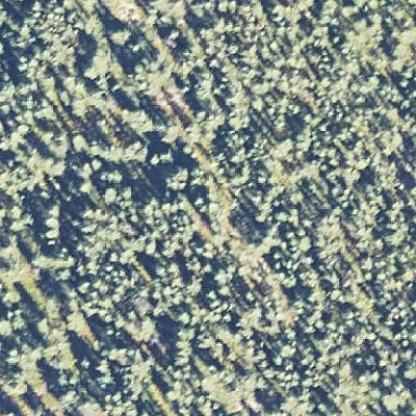tree-top: (37, 196, 64, 250), (76, 44, 115, 81), (151, 108, 187, 146), (36, 123, 72, 158), (188, 64, 218, 104), (374, 123, 406, 157), (159, 162, 194, 193), (96, 162, 122, 184), (170, 323, 196, 344)
